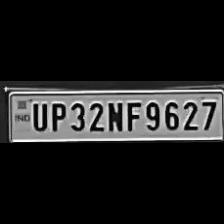2: (86, 99, 104, 133), (180, 98, 198, 132)
3: (67, 100, 85, 132)
6: (161, 99, 179, 131)
7: (198, 99, 216, 131)
9: (142, 99, 162, 131)
F: (124, 98, 140, 132)
N: (105, 99, 123, 133)
P: (47, 100, 66, 132)
U: (29, 100, 47, 132)
